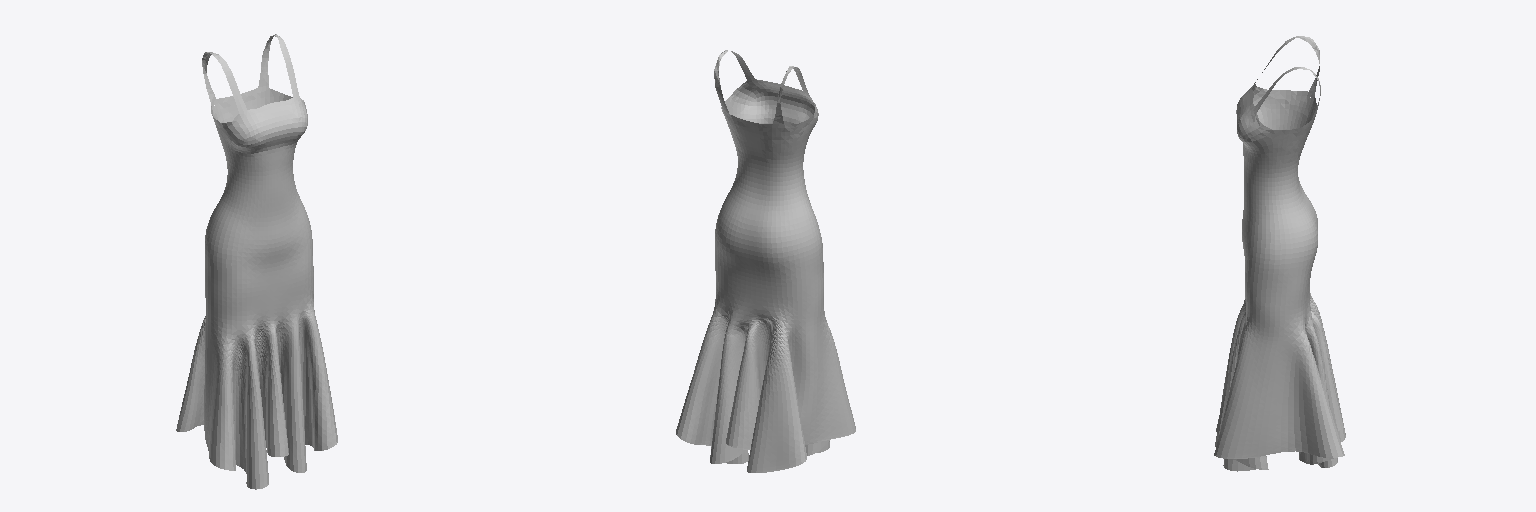
Rendered from Hawthroine Dress.OBJ.
3 renders of one model, left to right at view 1: azimuth 30°, elevation 25°; view 2: azimuth 150°, elevation 25°; view 3: azimuth 270°, elevation 25°, orthographic.
Parts seen in each view (by area): view 1: ZBrush_defualt_group; view 2: ZBrush_defualt_group; view 3: ZBrush_defualt_group.
Boxes of the visible parts, x1=… form: ZBrush_defualt_group: x1=176, y1=34, x2=337, y2=489; ZBrush_defualt_group: x1=676, y1=50, x2=855, y2=472; ZBrush_defualt_group: x1=1214, y1=36, x2=1345, y2=471.
Bounding box in the file's own units: 35.8 × 108 × 31.64.